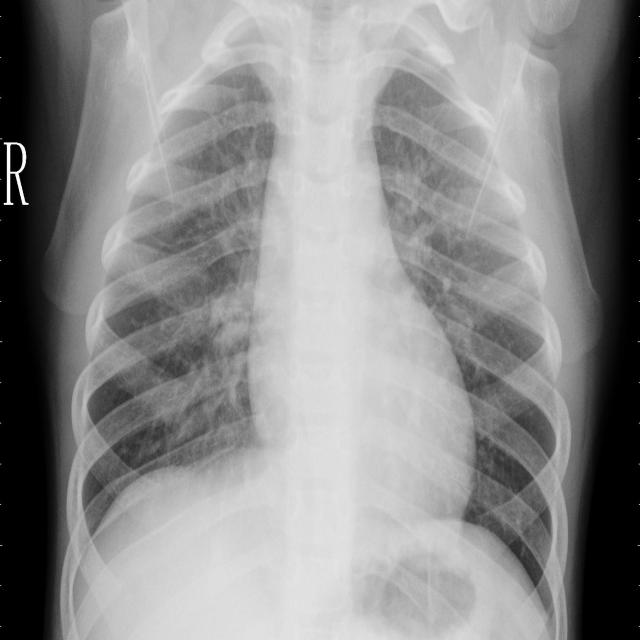no-pneumonia: (374, 54, 571, 637), (71, 63, 276, 536)
